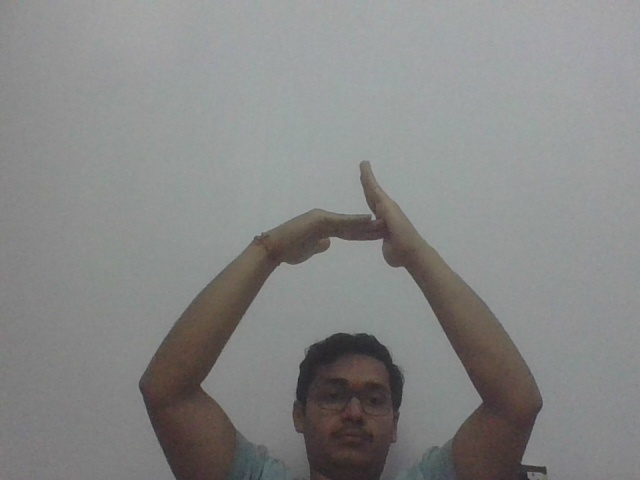Z: (264, 157, 429, 276)
